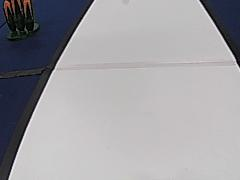corn: (2, 0, 40, 40)
